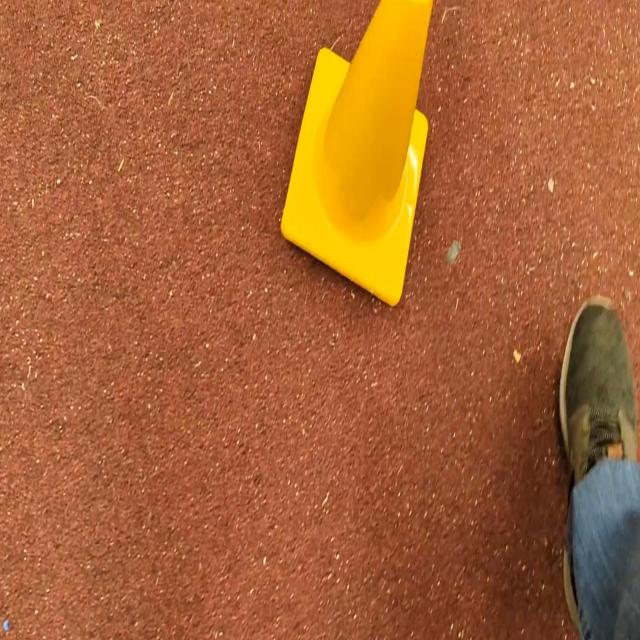frc_cone: (274, 1, 438, 308)
